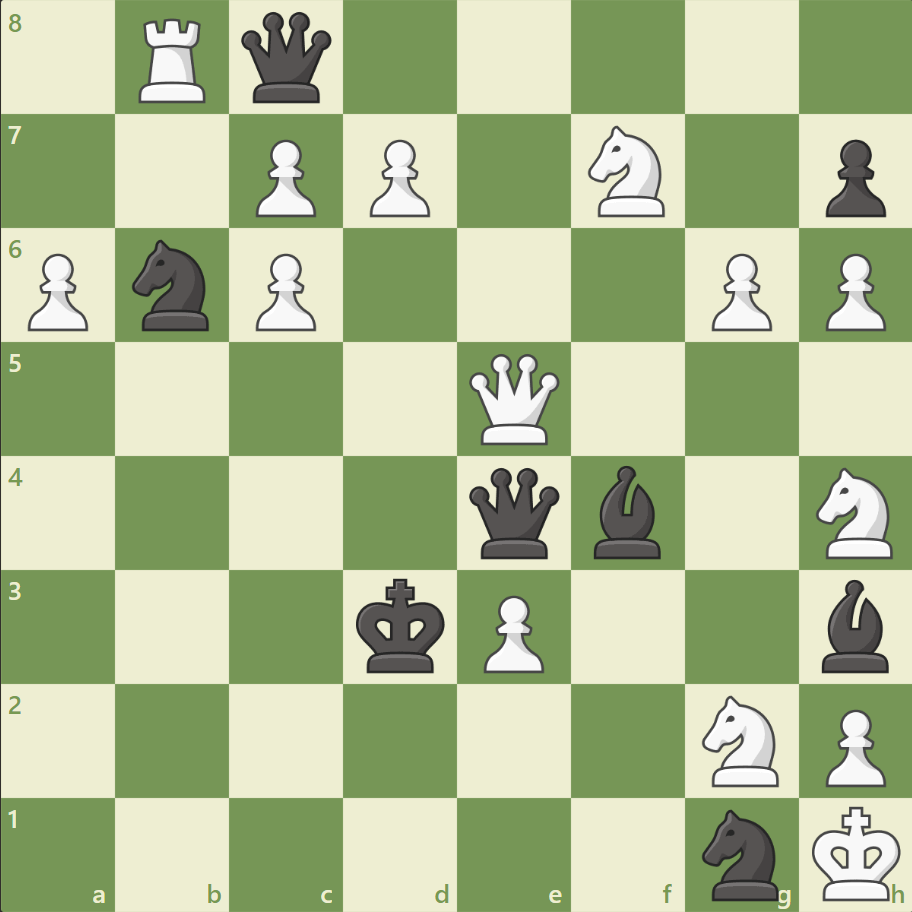K: (806, 798, 906, 906)
N: (806, 461, 903, 564), (692, 688, 789, 791), (579, 121, 676, 223)
P: (247, 132, 322, 223), (20, 246, 95, 337), (247, 246, 322, 337), (701, 246, 776, 337), (474, 586, 549, 677), (361, 132, 435, 223), (815, 246, 889, 337), (815, 700, 889, 791)
Q: (464, 349, 563, 449)
R: (133, 12, 215, 109)
b: (585, 460, 669, 563), (812, 574, 896, 676)
k: (351, 571, 451, 679)
n: (124, 234, 222, 337), (692, 802, 789, 904)
p: (815, 132, 889, 223)
q: (237, 9, 336, 108), (464, 463, 563, 562)
